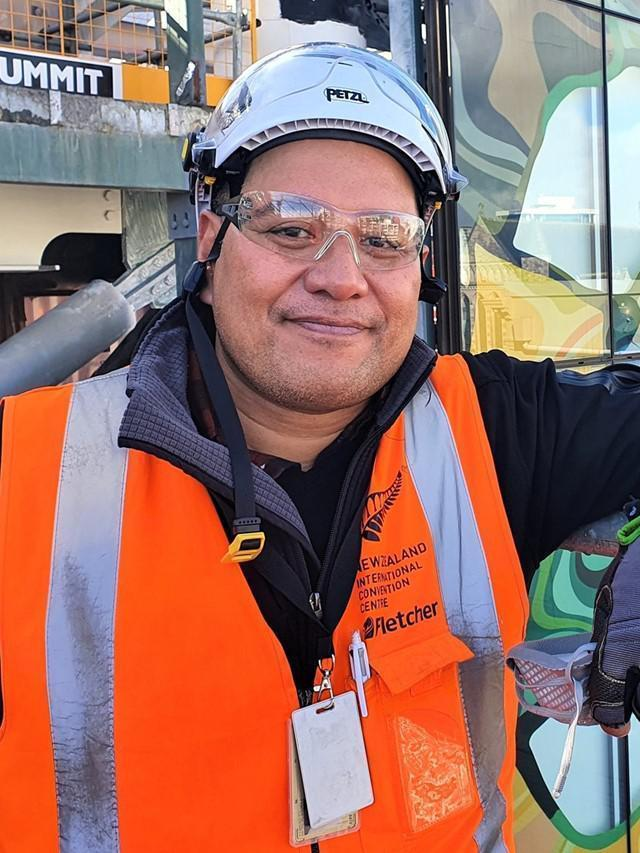helmet: (189, 40, 451, 202)
